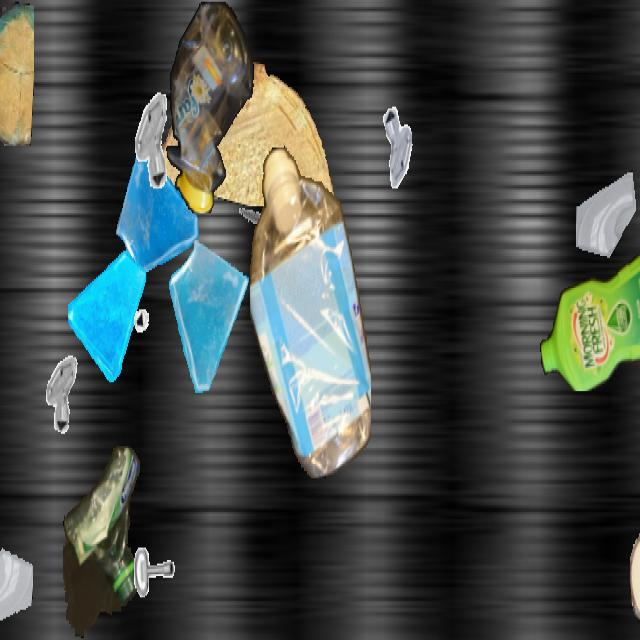glass: (163, 236, 255, 400), (115, 135, 203, 292), (68, 244, 146, 382), (576, 171, 638, 281), (0, 526, 33, 636)
metal: (121, 89, 179, 192), (128, 539, 184, 638), (376, 101, 424, 187), (35, 348, 83, 434), (234, 185, 278, 263), (131, 277, 169, 345)
plastic: (250, 144, 370, 478), (165, 2, 255, 212), (63, 443, 141, 638), (540, 255, 640, 390)
wood: (159, 62, 345, 204), (0, 2, 34, 144), (630, 522, 640, 626)
